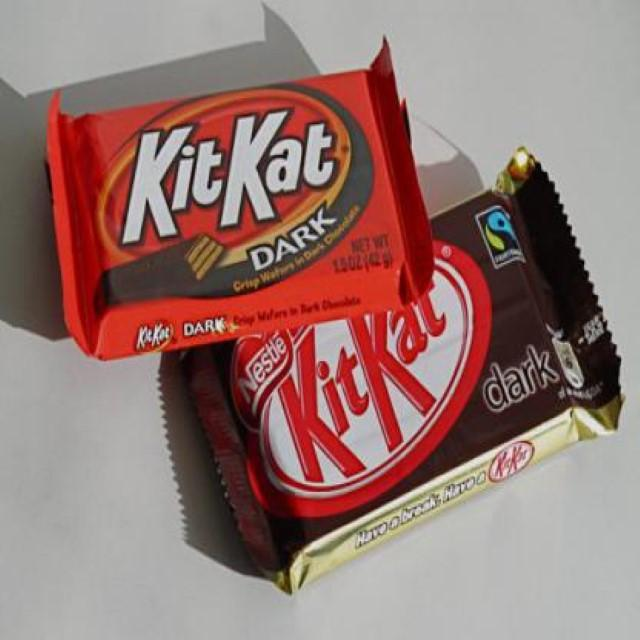kitkat_chocolate: (287, 175, 590, 560), (55, 93, 388, 300)
